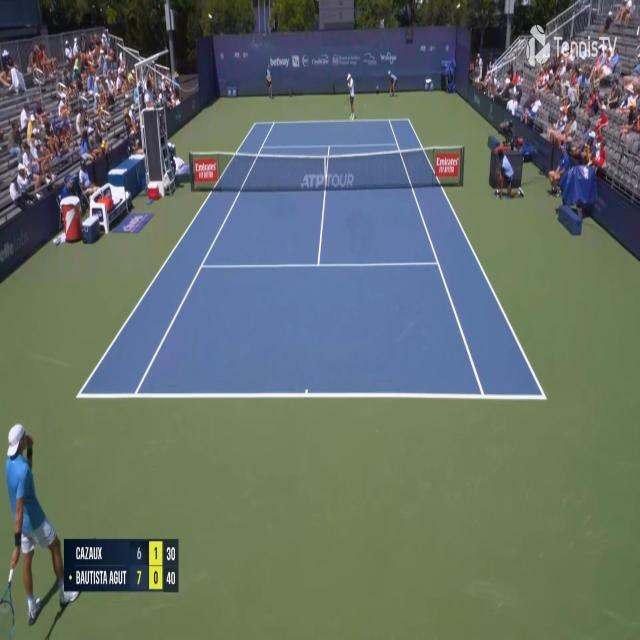tennis-player: (2, 420, 83, 640), (344, 72, 356, 121)
